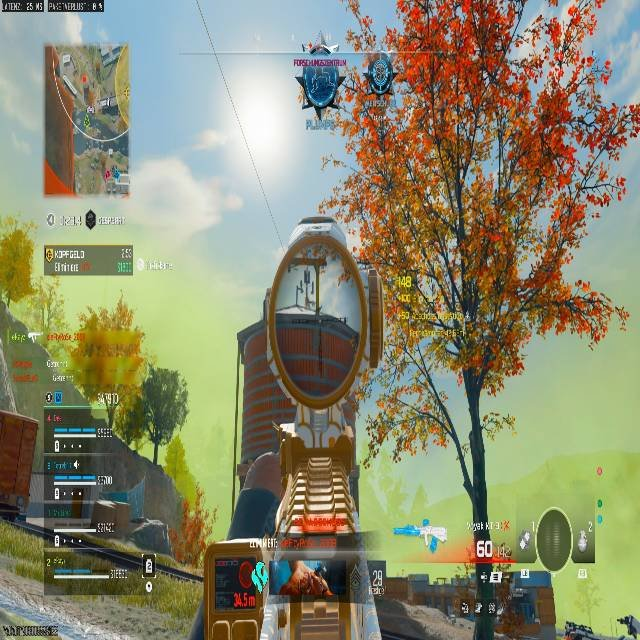player: (520, 530, 531, 550)
